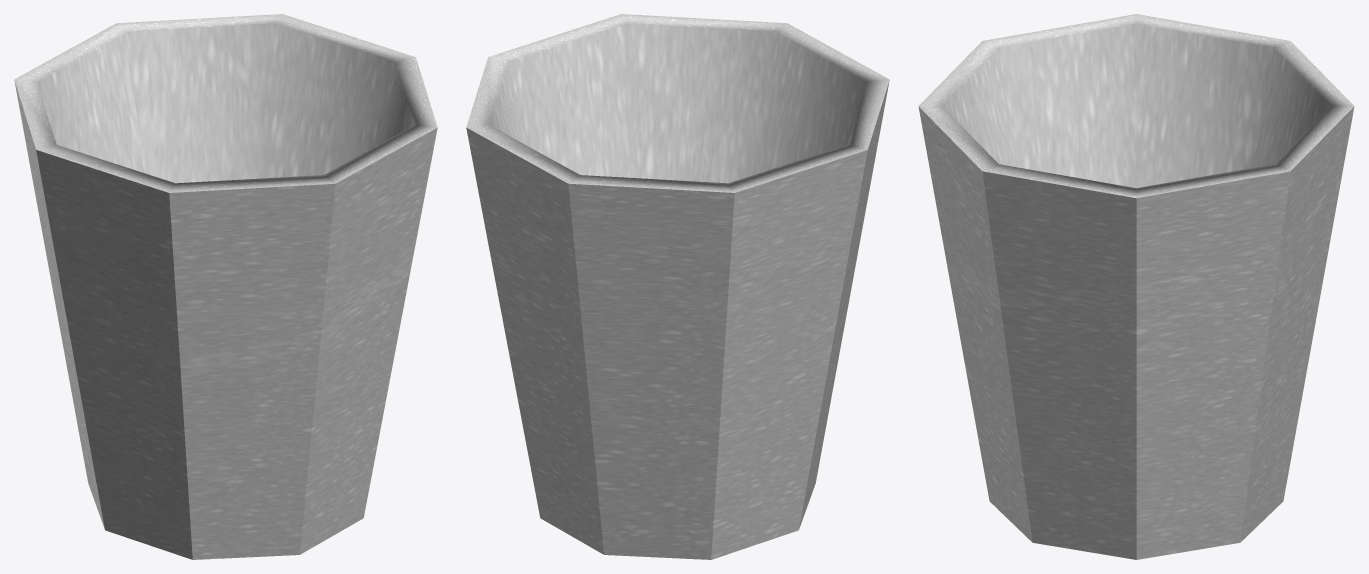
Rendered from IVRC DustBox.obj.
The picture shows the model from 3 angles, left to right: view 1: azimuth 30°, elevation 25°; view 2: azimuth 150°, elevation 25°; view 3: azimuth 270°, elevation 25°; orthographic projection.
Parts seen in each view (by area): view 1: pCylinder5; view 2: pCylinder5; view 3: pCylinder5.
Part boxes in pixels (x1,y1,x2,y2): pCylinder5: (14,14,437,559); pCylinder5: (466,14,889,559); pCylinder5: (918,14,1354,559).
Size of the model in its own units: 2 by 2 by 2.
1 material, 1 textured.
